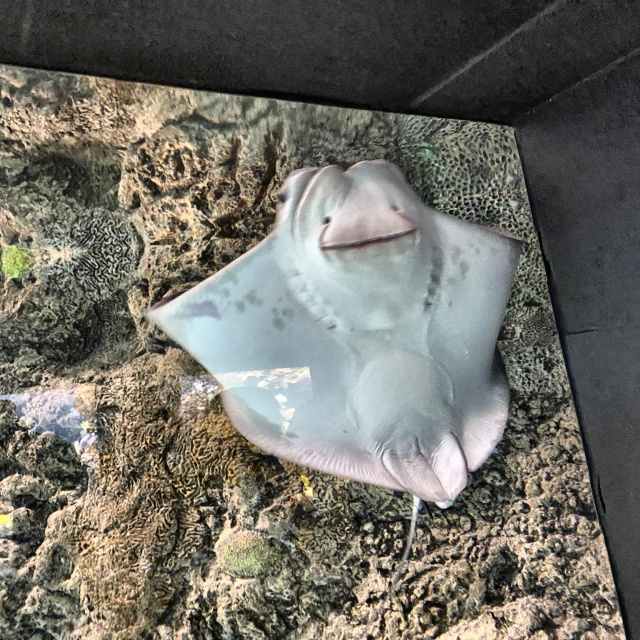stingray: (145, 159, 534, 510)
